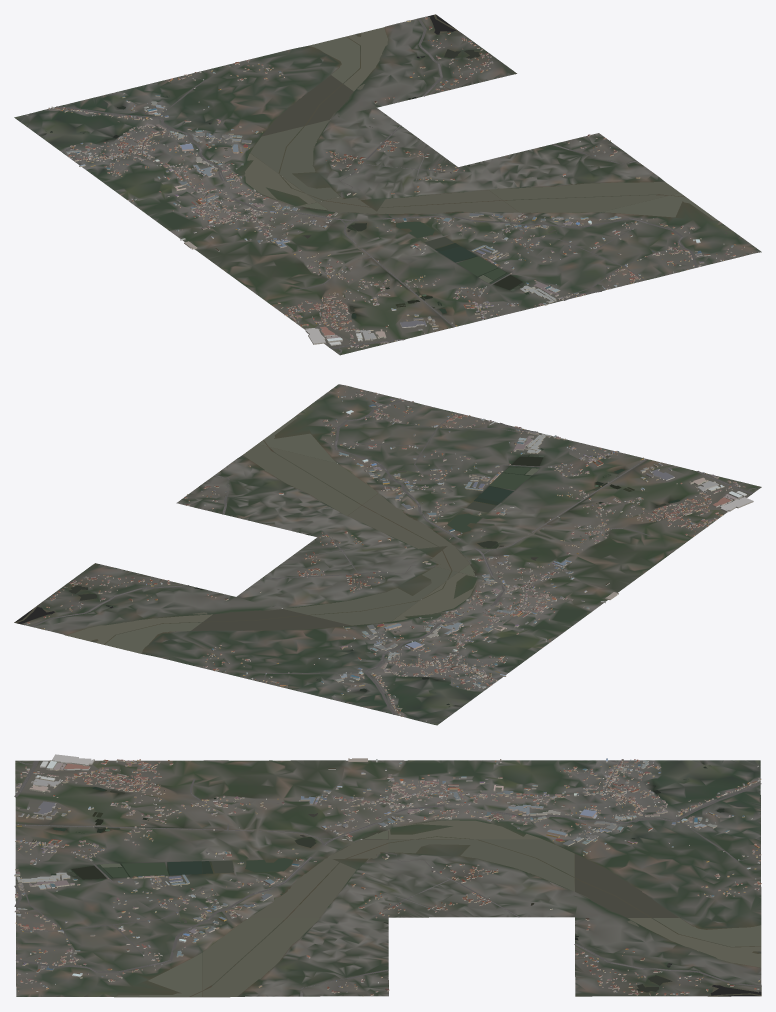
3 views of the same model, one above another, from view 1: azimuth 30°, elevation 25°; view 2: azimuth 150°, elevation 25°; view 3: azimuth 270°, elevation 25° (orthographic). The views are drawn at different scales.
Parts seen in each view (by area): view 1: ground, water, buildings, roads; view 2: ground, water, buildings, roads; view 3: ground, water, buildings, roads.
Part boxes in pixels (x1,y1,x2,y2): ground: (14, 14, 761, 355); water: (45, 14, 731, 318); buildings: (26, 17, 752, 348); roads: (54, 18, 697, 354); ground: (14, 384, 761, 725); water: (14, 405, 679, 706); buildings: (26, 385, 753, 721); roads: (30, 399, 760, 715); ground: (15, 760, 761, 997); water: (50, 763, 761, 996); buildings: (14, 754, 761, 996); roads: (14, 760, 761, 996).
Size of the model in its own units: 4294 by 29.88 by 5627.
